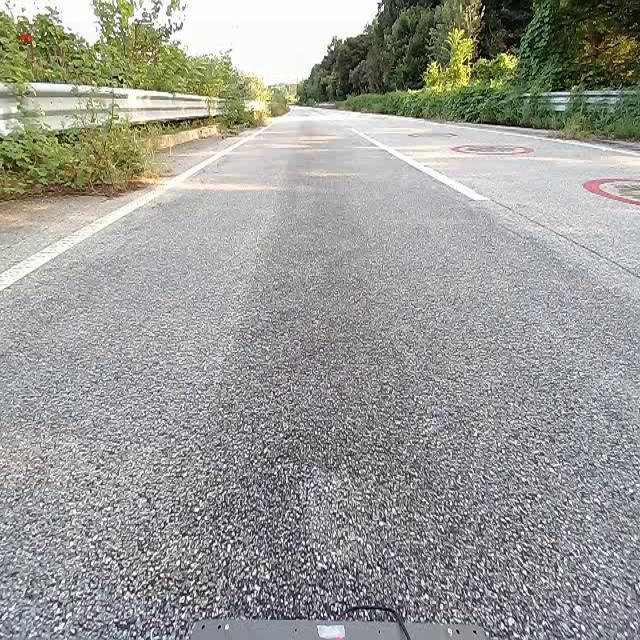Lane: (0, 112, 282, 290), (0, 128, 265, 292), (340, 117, 502, 207), (349, 128, 488, 201)
